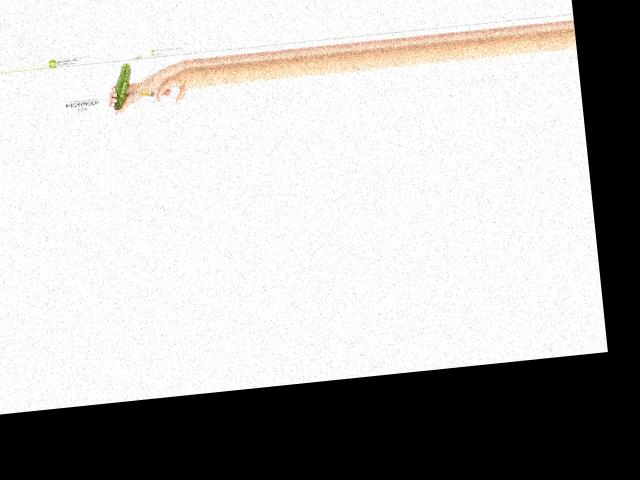cucumber: (109, 62, 135, 110)
